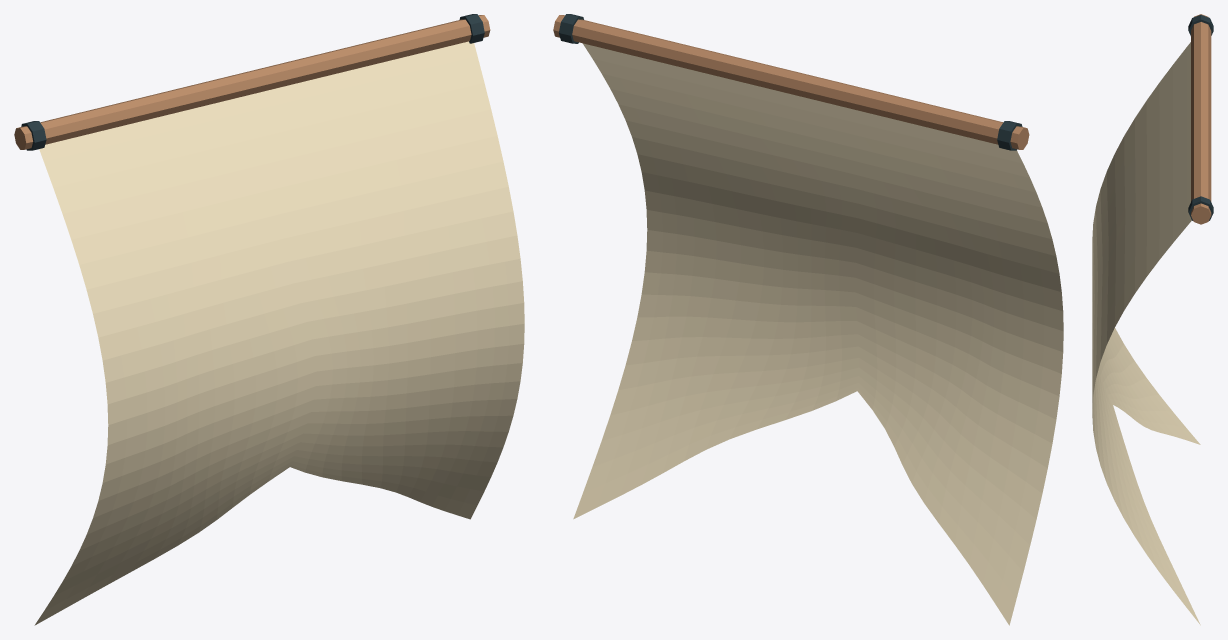
Rendered from main_sail_swallowtail.glb.
3 renders of one model, left to right at view 1: azimuth 30°, elevation 25°; view 2: azimuth 150°, elevation 25°; view 3: azimuth 270°, elevation 25°, orthographic. The views are drawn at different scales.
Parts seen in each view (by area): view 1: main_sail cloth swallowtail, main_sail yard.002; view 2: main_sail cloth swallowtail, main_sail yard.002; view 3: main_sail cloth swallowtail, main_sail yard.002, Yard iron collar.005, Yard iron collar.004.
Boxes of the visible parts, bbox=[...] form: main_sail cloth swallowtail: bbox=[34, 41, 524, 625]; main_sail yard.002: bbox=[14, 15, 490, 149]; main_sail cloth swallowtail: bbox=[573, 43, 1063, 625]; main_sail yard.002: bbox=[553, 15, 1029, 149]; main_sail cloth swallowtail: bbox=[1092, 42, 1200, 625]; main_sail yard.002: bbox=[1191, 14, 1211, 224]; Yard iron collar.005: bbox=[1188, 196, 1213, 220]; Yard iron collar.004: bbox=[1188, 14, 1213, 35].
Size of the model in its own units: 4.68 by 4.85 by 1.25.
